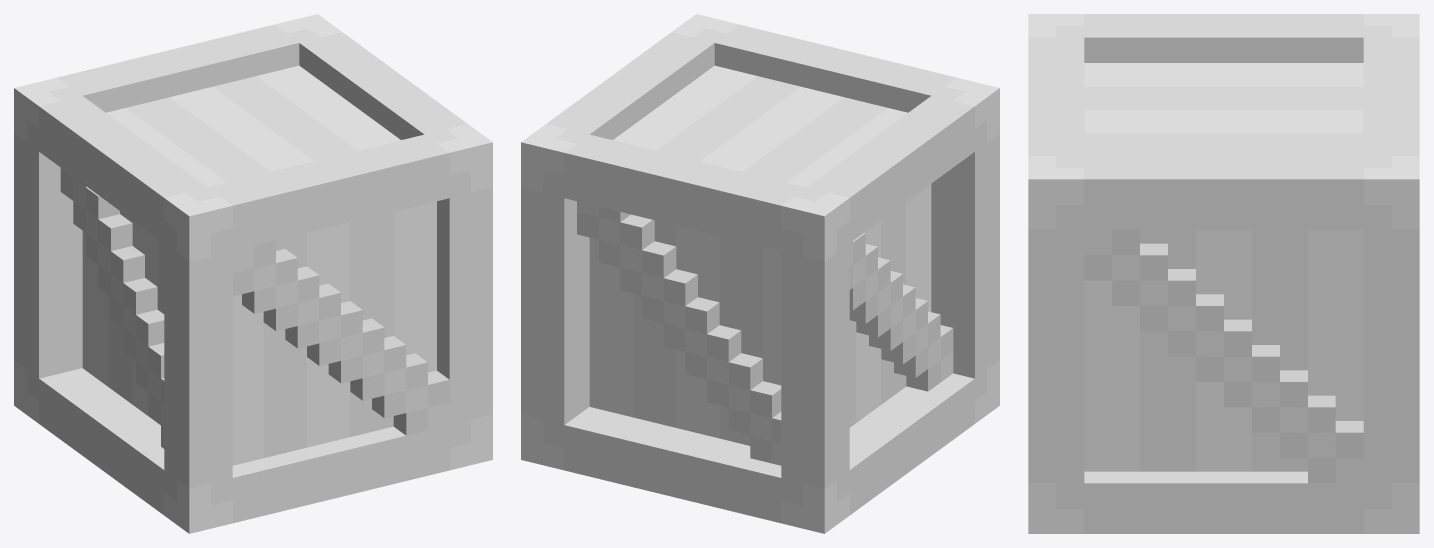
File: Crate.fbx
3 renders of one model, left to right at view 1: azimuth 30°, elevation 25°; view 2: azimuth 150°, elevation 25°; view 3: azimuth 270°, elevation 25°, orthographic. The views are drawn at different scales.
Visible parts, largest first — view 1: crate; view 2: crate; view 3: crate.
Boxes of the visible parts, box(x1,y1,x2,y2) form: crate: box(14, 14, 492, 533); crate: box(521, 14, 999, 533); crate: box(1028, 14, 1419, 533).
Bounding box in the file's own units: 140 × 140 × 140.
1 material, 1 textured.
